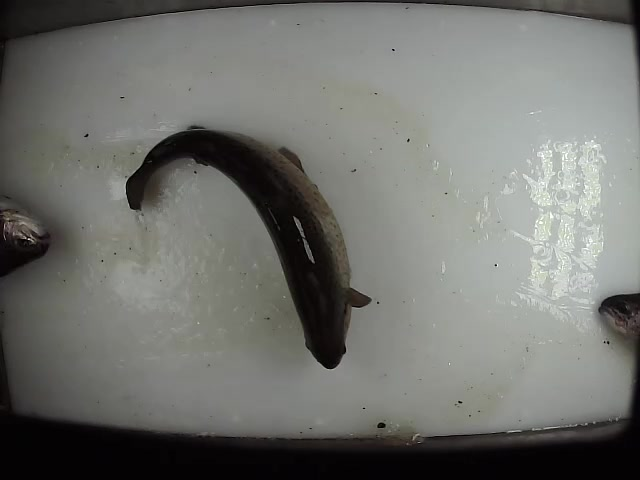fish: (122, 121, 373, 372)
